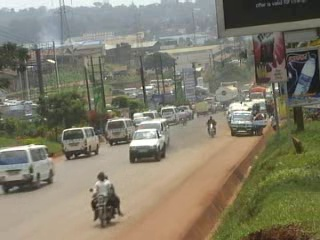Car: (130, 114, 152, 133)
Motorcycle: (87, 169, 123, 228), (205, 113, 218, 137), (178, 107, 188, 127)
